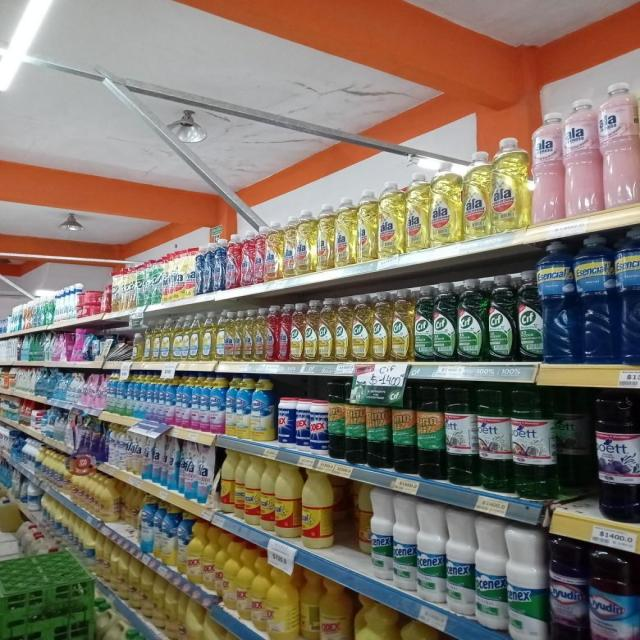ala_conc_amarillo: (492, 137, 530, 232), (429, 160, 462, 245), (462, 149, 490, 239), (377, 180, 404, 257), (405, 169, 429, 252), (356, 188, 377, 262), (335, 196, 355, 267), (296, 208, 315, 274), (316, 202, 334, 271), (266, 220, 282, 280), (283, 213, 296, 277), (242, 309, 254, 362), (231, 310, 243, 361), (255, 308, 265, 362)
ala_conc_rojo: (226, 232, 240, 288), (278, 303, 291, 362), (266, 304, 278, 362), (240, 231, 252, 286), (254, 226, 265, 284)
ala_crem_rosado: (600, 81, 640, 208), (564, 98, 600, 216), (532, 111, 563, 224)
cif_conc_bot_amarilla: (391, 288, 413, 362), (351, 294, 371, 362), (372, 292, 391, 362), (335, 296, 350, 362), (319, 298, 334, 362), (304, 299, 318, 362), (291, 302, 304, 362)
cif_conc_botella_verde: (487, 274, 516, 362), (517, 270, 544, 362), (458, 278, 486, 362), (434, 282, 456, 362), (414, 285, 433, 362)
magistral_con_amarillo: (202, 310, 215, 360), (189, 313, 202, 361), (215, 310, 227, 361), (172, 316, 185, 362), (161, 317, 172, 362), (133, 320, 144, 361), (144, 320, 154, 360), (152, 319, 161, 361)
